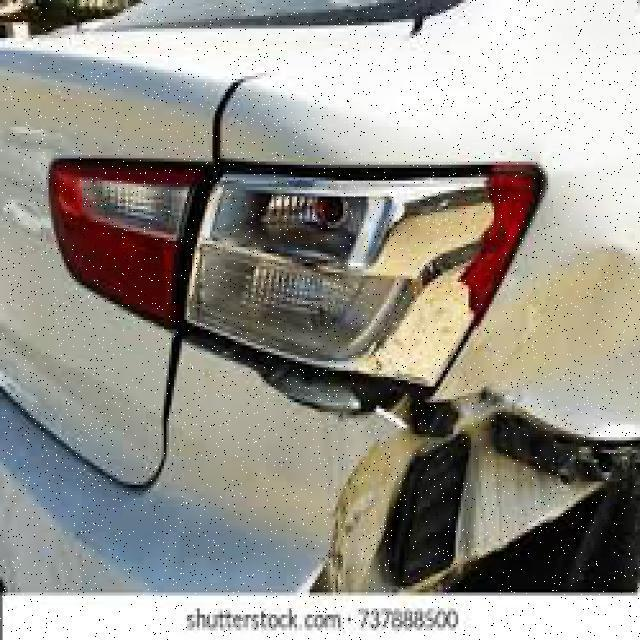Taillight-Damage: (46, 142, 553, 380)
rear-bumper-dent: (0, 307, 638, 596)
